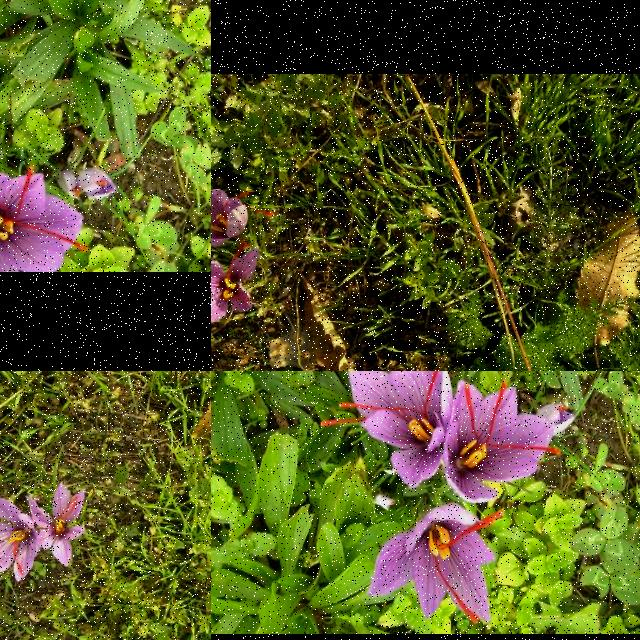flower: (321, 371, 453, 502), (368, 504, 506, 624), (443, 381, 561, 503), (0, 171, 82, 272), (26, 484, 86, 568), (211, 189, 274, 247), (0, 493, 35, 582), (77, 168, 119, 202), (538, 404, 576, 434), (60, 171, 80, 199)
overlap: (211, 244, 260, 324)
